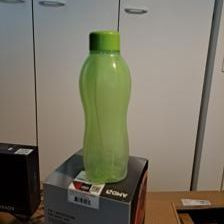bottle: (78, 27, 132, 185)
